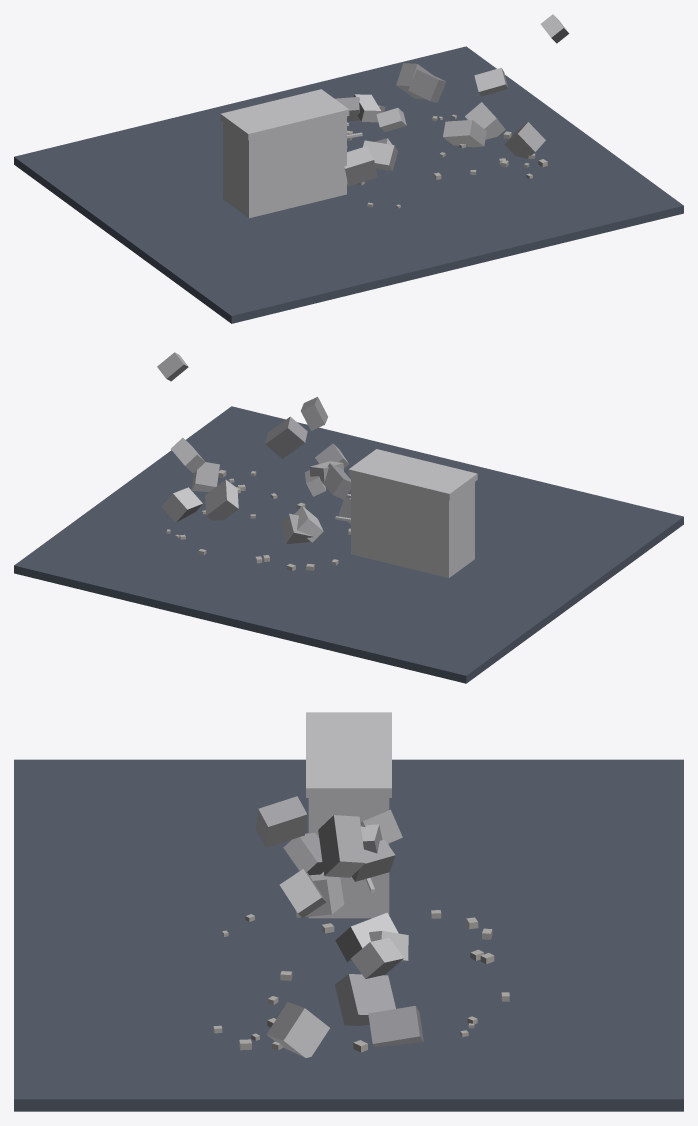
The model's file is fractured_barrier.glb.
3 views of the same model, one above another, from view 1: azimuth 30°, elevation 25°; view 2: azimuth 150°, elevation 25°; view 3: azimuth 270°, elevation 25° (orthographic). The views are drawn at different scales.
Parts seen in each view (by area): view 1: StudioFloor, FracturedBarrier_Object; view 2: StudioFloor, FracturedBarrier_Object; view 3: StudioFloor, FracturedBarrier_Object.
Boxes of the visible parts, box(x1,y1,x2,y2) form: StudioFloor: box(14, 46, 683, 323); FracturedBarrier_Object: box(220, 14, 569, 218); StudioFloor: box(14, 406, 683, 683); FracturedBarrier_Object: box(157, 352, 477, 577); StudioFloor: box(14, 759, 683, 1111); FracturedBarrier_Object: box(213, 712, 509, 1057).
Size of the model in its own units: 6 by 1.77 by 5.
